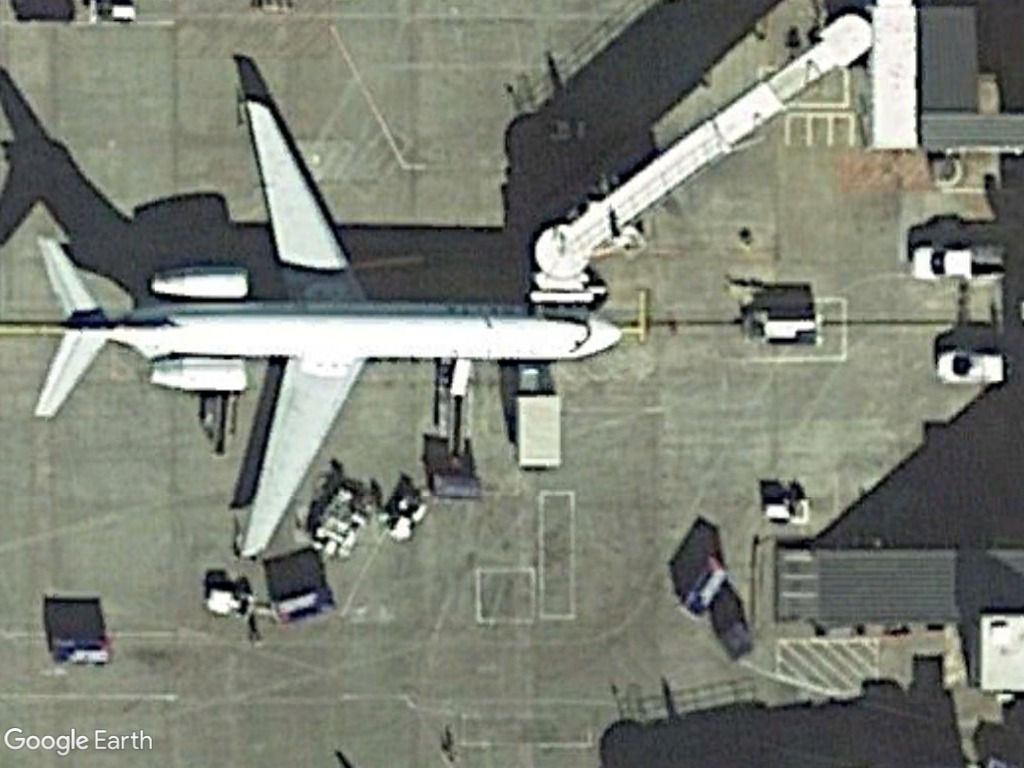chartered: (24, 98, 631, 567)
